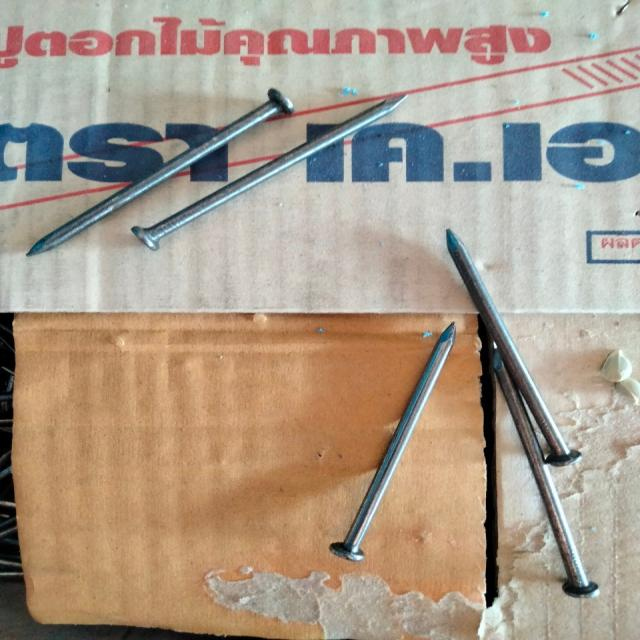3x8 nail: (21, 62, 425, 266), (446, 210, 630, 608), (298, 300, 468, 570)
